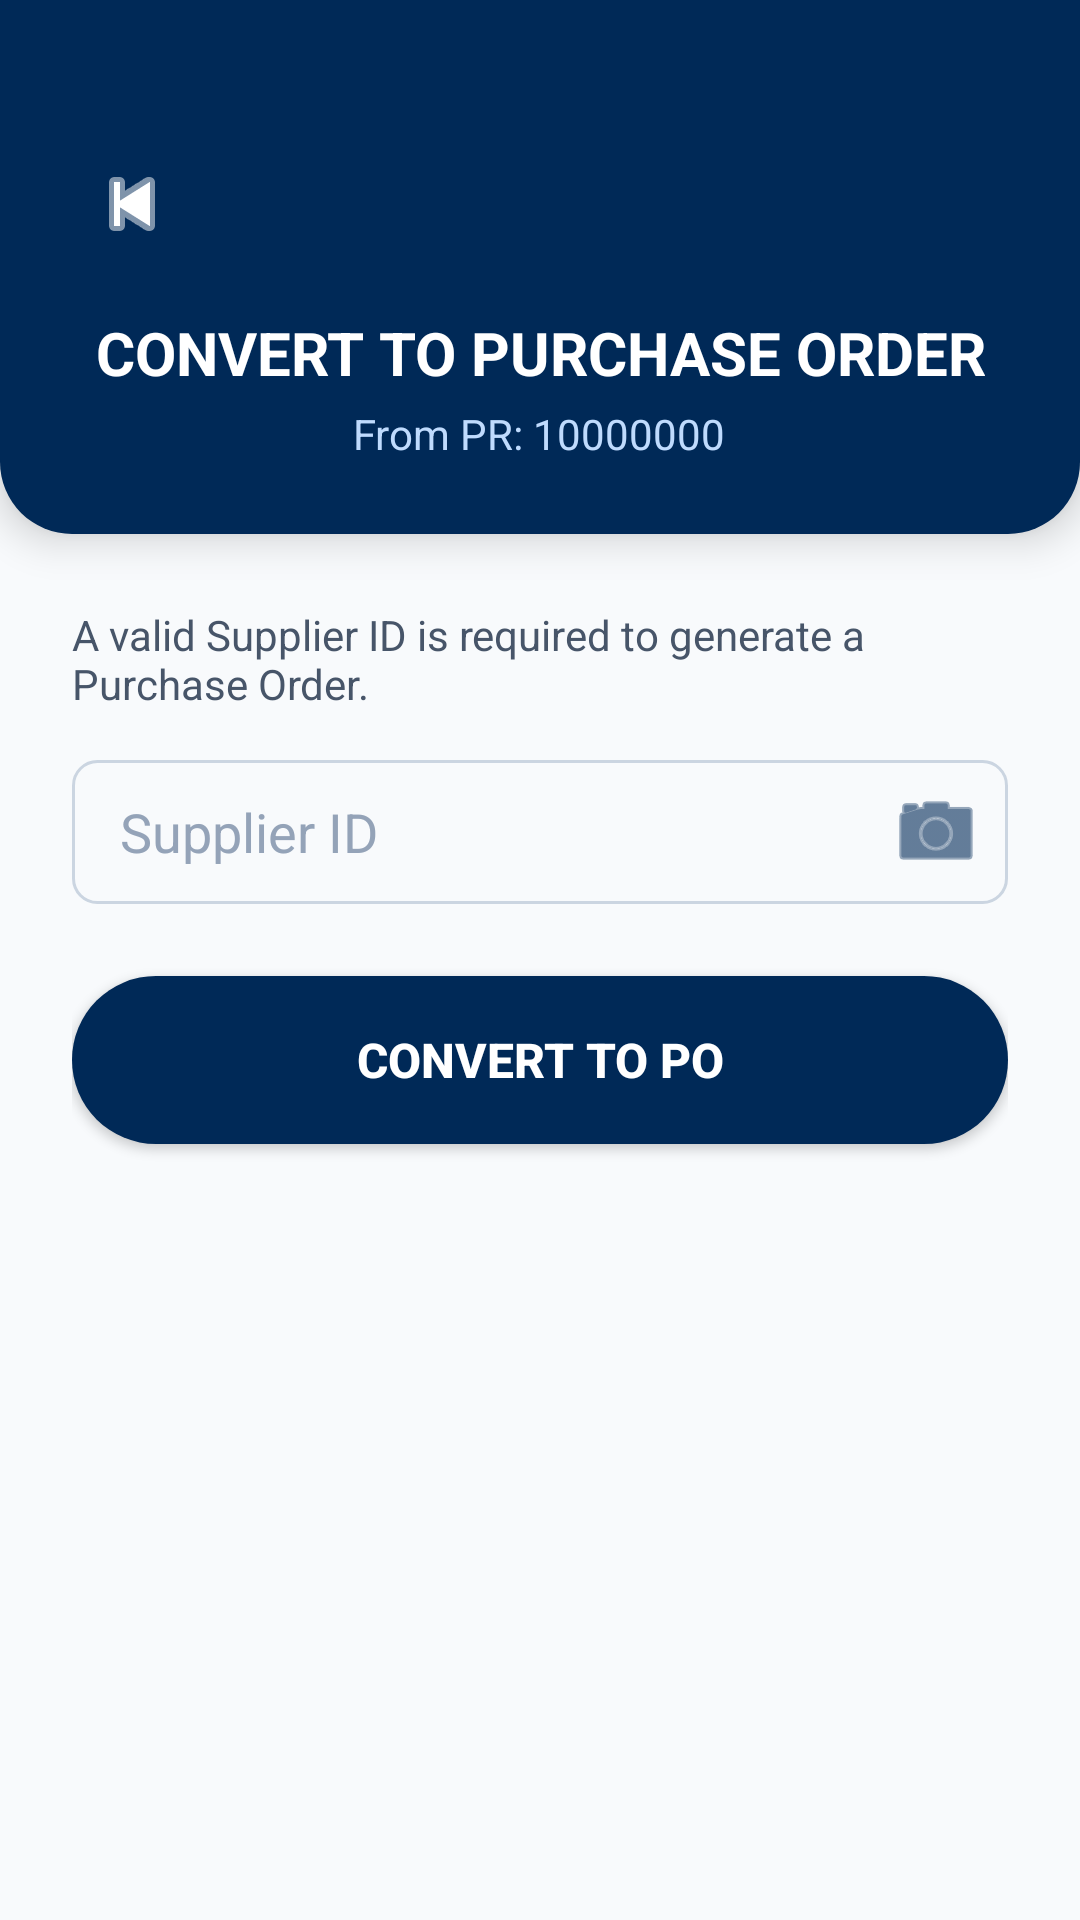

Named icons in this screenshot (1080 x 1920) and their centers, [x,y]:
camera: [936,830]
previous: [132,204]
